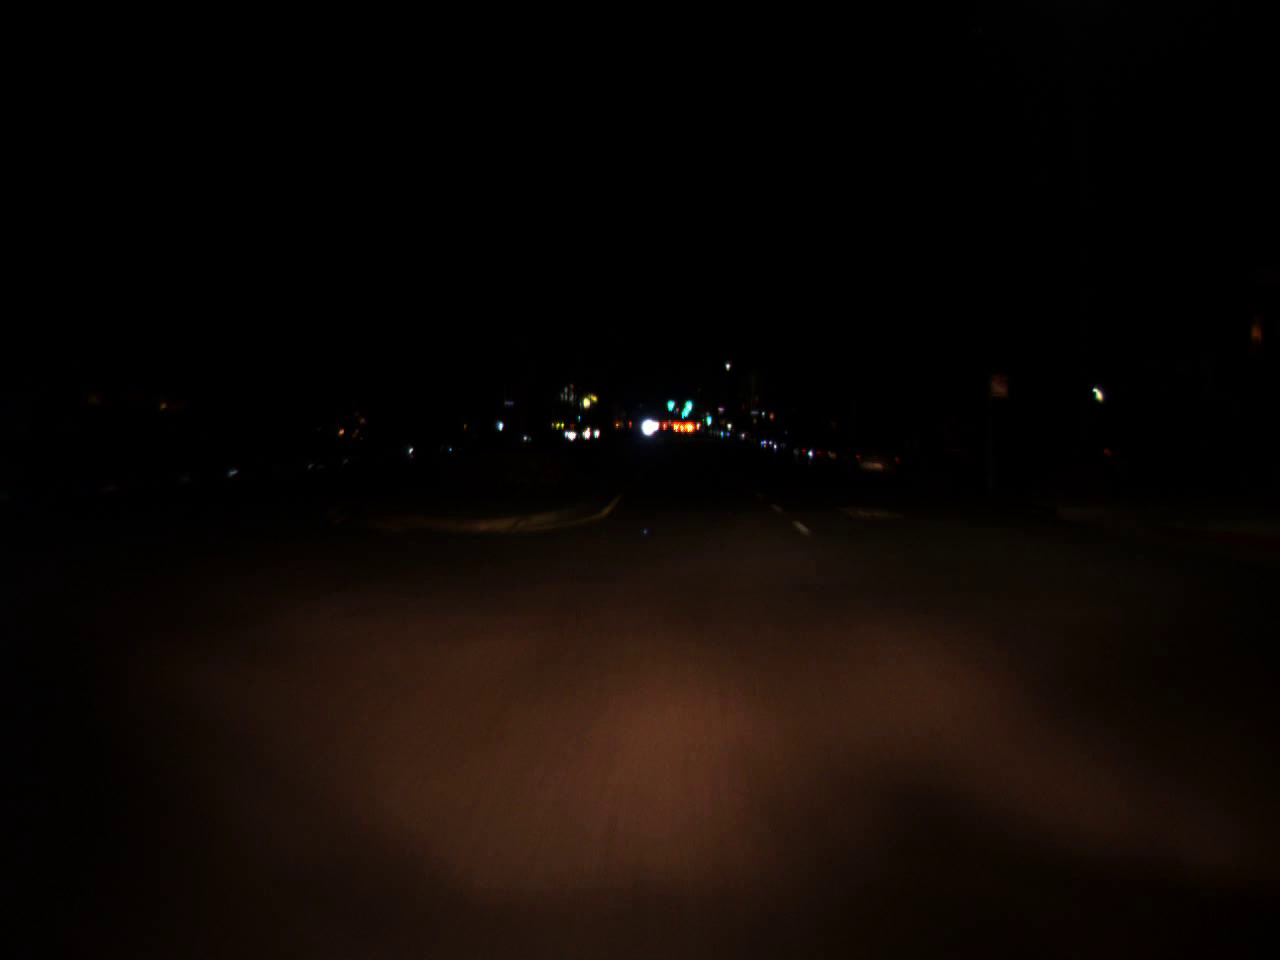go: (681, 391, 695, 412), (665, 390, 675, 414), (705, 409, 712, 427)
